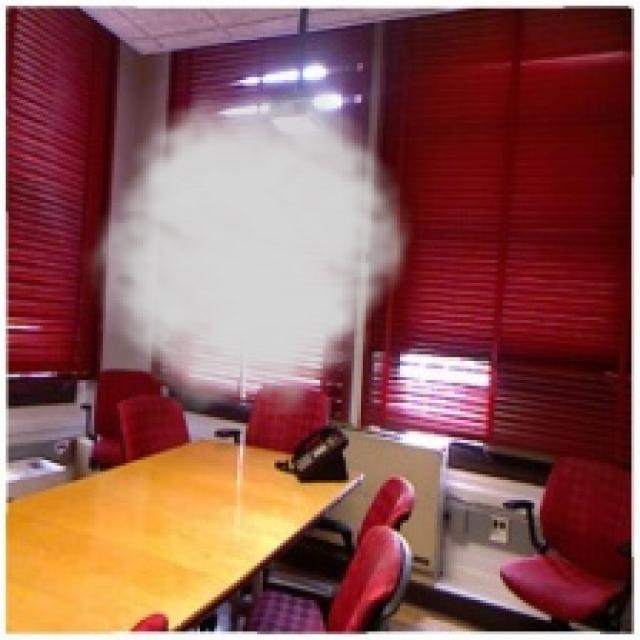smoke: (80, 72, 423, 414)
